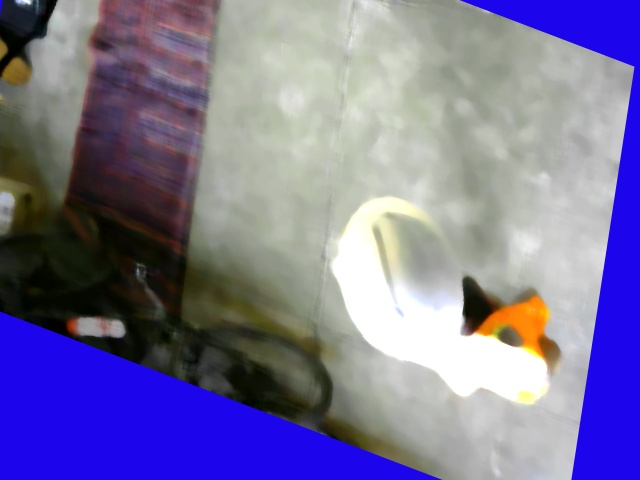three: (358, 298, 408, 345)
